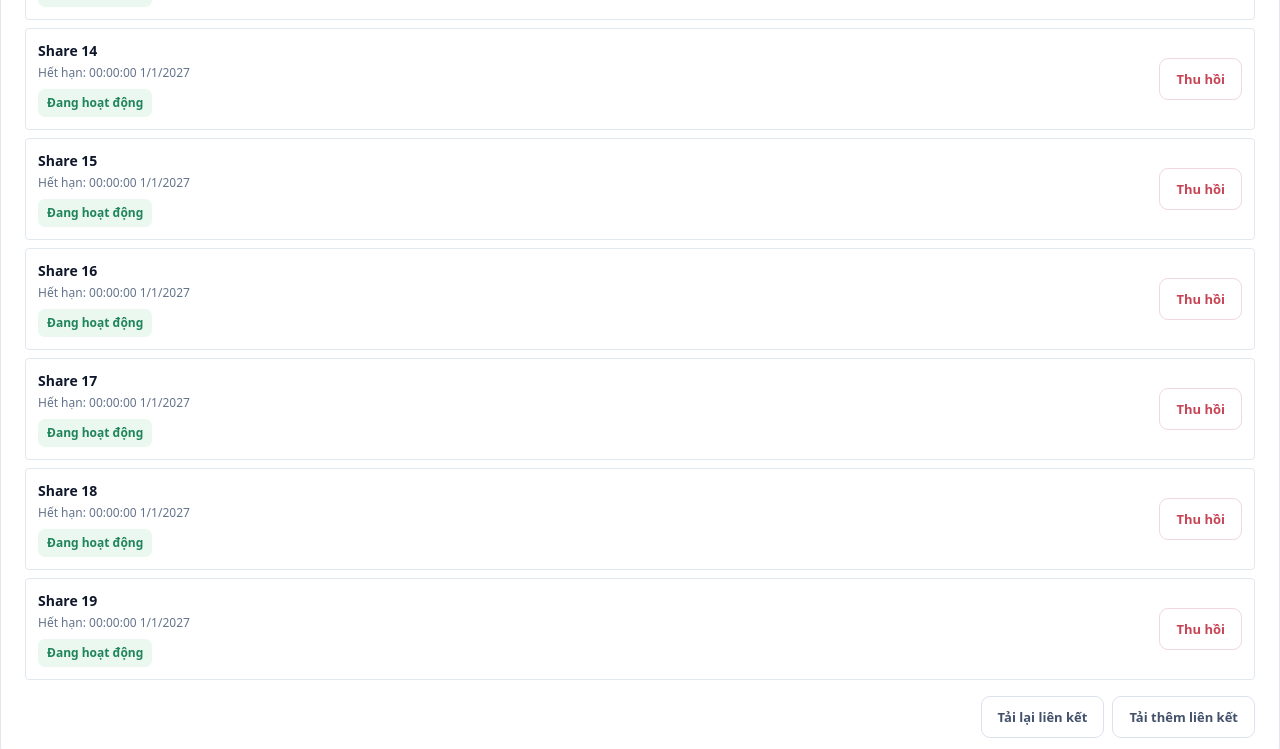
Scenario: loads every record from 21 shares
(page scrolled)
Click the button "Tải thêm liên kết": (1184, 717) [1112,696,1255,738]
(page scrolled)
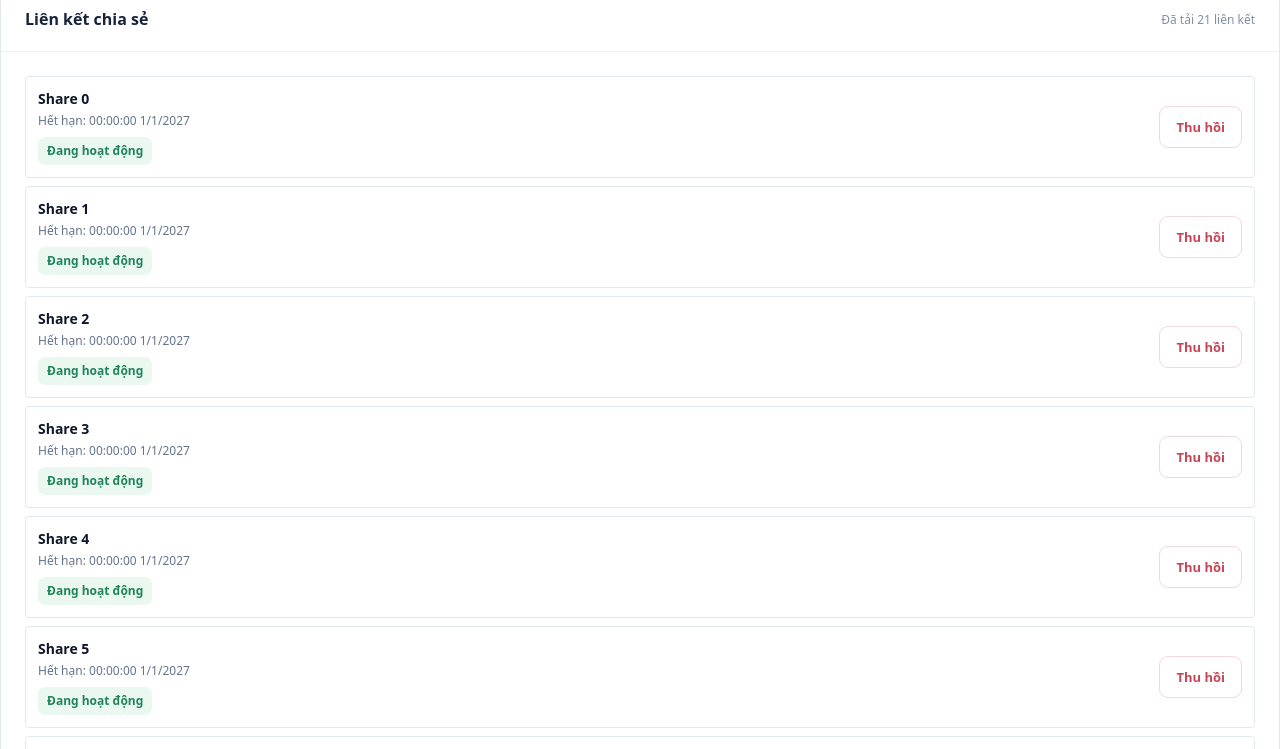
Now the text "Đã tải 21 liên kết" is shown, box [1161,10,1255,29]
